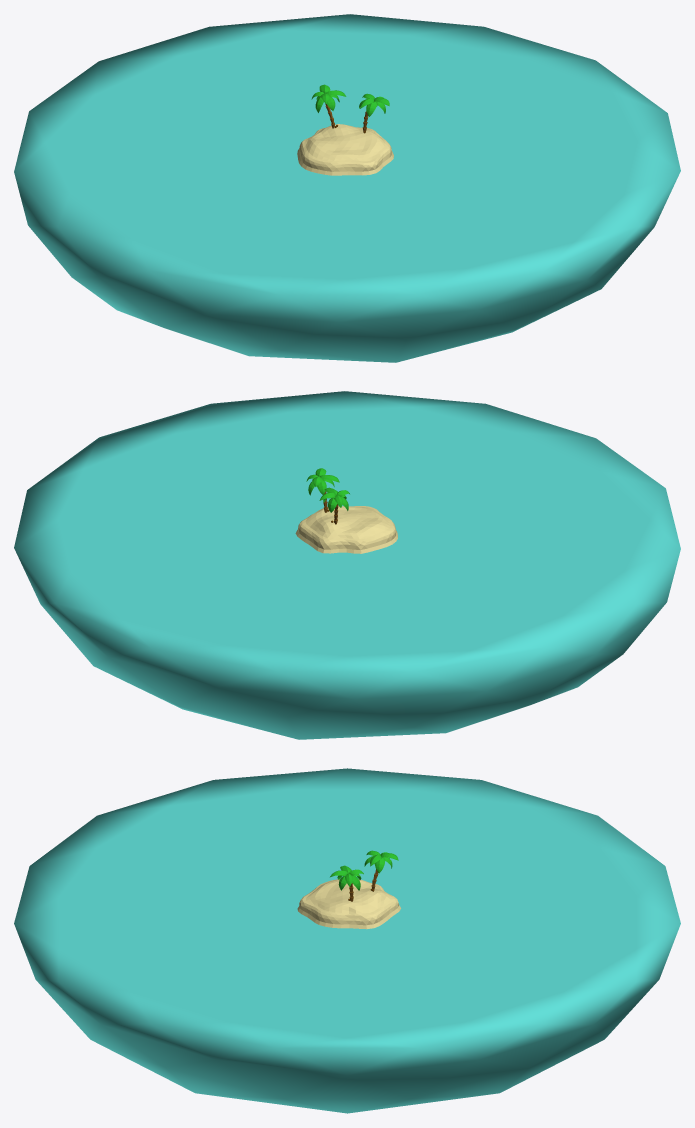
Rendered from empty_island.glb.
3 views of the same model, one above another, from view 1: azimuth 30°, elevation 25°; view 2: azimuth 150°, elevation 25°; view 3: azimuth 270°, elevation 25° (orthographic).
Visible parts, largest first — view 1: New Water, Island, Tree2; view 2: New Water, Island; view 3: New Water, Island.
Part boxes in pixels (x1=…): New Water: x1=14, y1=14, x2=680, y2=362; Island: x1=297, y1=124, x2=393, y2=175; Tree2: x1=311, y1=84, x2=346, y2=128; New Water: x1=14, y1=391, x2=680, y2=739; Island: x1=295, y1=506, x2=397, y2=553; New Water: x1=14, y1=768, x2=680, y2=1113; Island: x1=297, y1=879, x2=400, y2=929.
Bounding box in the file's own units: 128 × 43.08 × 129.
